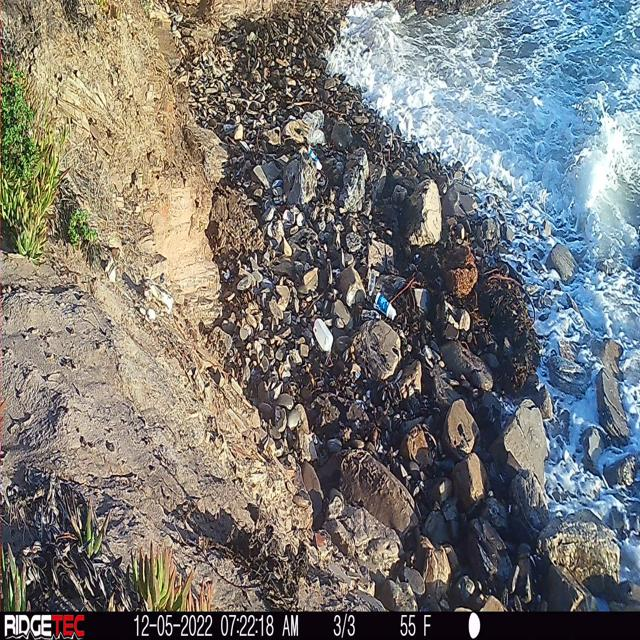bird: (374, 112, 395, 161)
